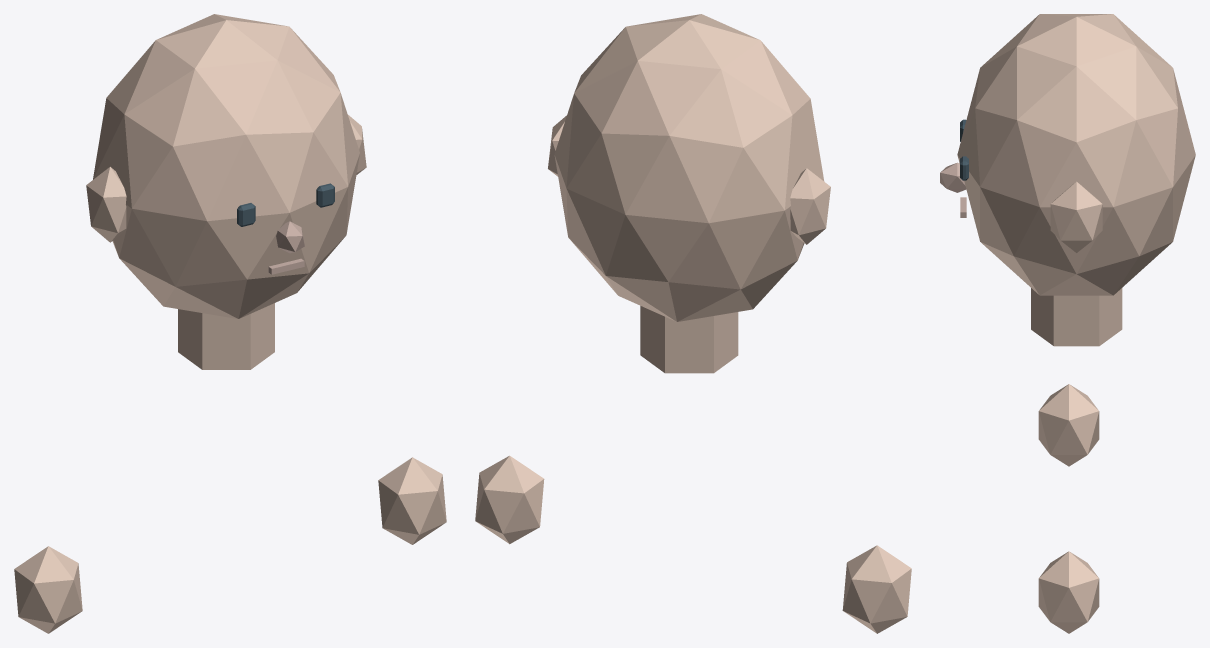
The model's file is SM_NPC_Body_00_Male.glb.
3 views of the same model, side by side, from view 1: azimuth 30°, elevation 25°; view 2: azimuth 150°, elevation 25°; view 3: azimuth 270°, elevation 25° (orthographic). The views are drawn at different scales.
Parts seen in each view (by area): view 1: SM_NPC_Body_00_Male; view 2: SM_NPC_Body_00_Male; view 3: SM_NPC_Body_00_Male.
Part boxes in pixels (x1,y1,x2,y2): SM_NPC_Body_00_Male: [14, 14, 446, 633]; SM_NPC_Body_00_Male: [475, 14, 911, 633]; SM_NPC_Body_00_Male: [940, 14, 1195, 633].
Size of the model in its own units: 0.9088 by 1.16 by 0.504.
